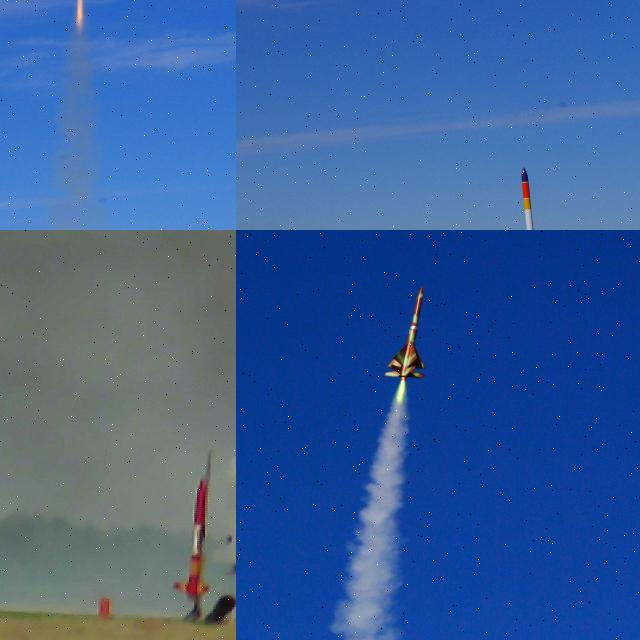Rocket: (172, 468, 212, 601), (384, 286, 426, 380), (214, 453, 236, 570), (517, 167, 543, 230)
